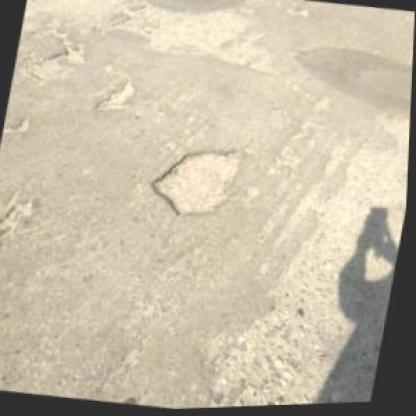pothole: (146, 136, 252, 229), (0, 191, 39, 244), (93, 76, 139, 119), (47, 39, 92, 71)
